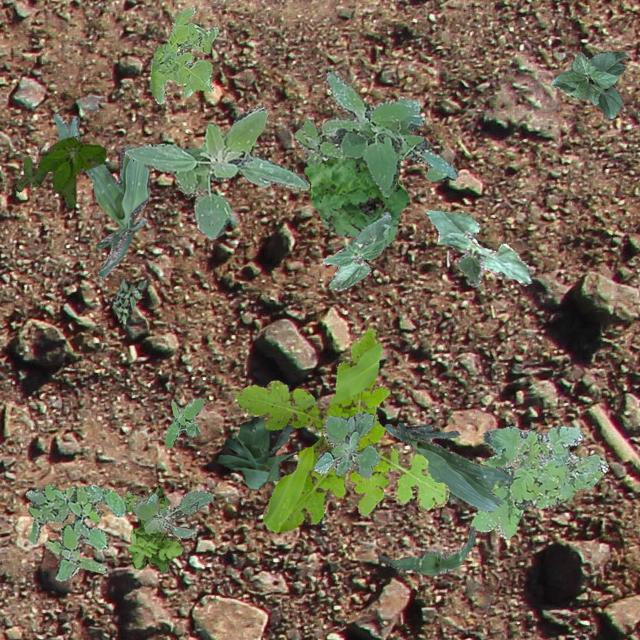crop: (53, 114, 148, 278), (384, 422, 512, 511), (424, 208, 532, 286), (217, 414, 296, 488), (320, 212, 390, 290), (550, 51, 628, 118), (376, 526, 474, 574)
weed: (234, 328, 448, 532), (124, 105, 308, 238), (294, 70, 458, 196), (471, 424, 606, 538), (24, 482, 126, 580), (302, 154, 408, 244), (148, 7, 218, 102), (14, 136, 104, 206), (122, 484, 182, 572), (312, 410, 378, 478), (132, 489, 212, 536), (164, 398, 204, 448), (111, 278, 148, 322)
